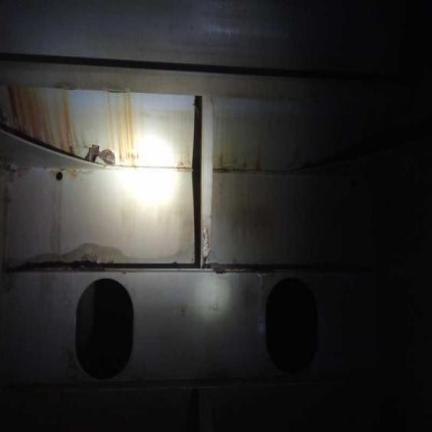besi_tidak_karat: (7, 169, 195, 265), (208, 172, 373, 267), (213, 99, 377, 171), (200, 96, 213, 267)
karat: (0, 86, 194, 168)
